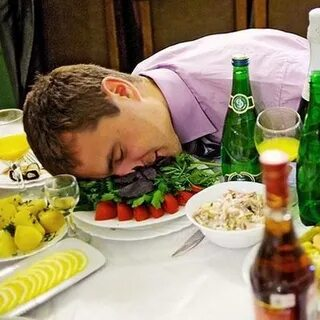sleep: (23, 27, 311, 175)
